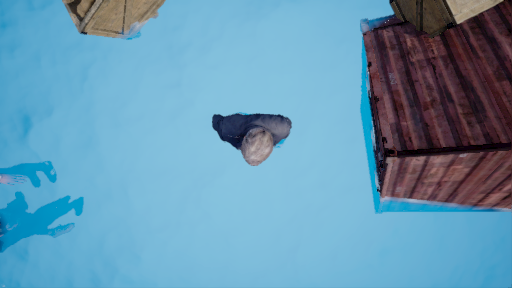person: (209, 108, 292, 172)
